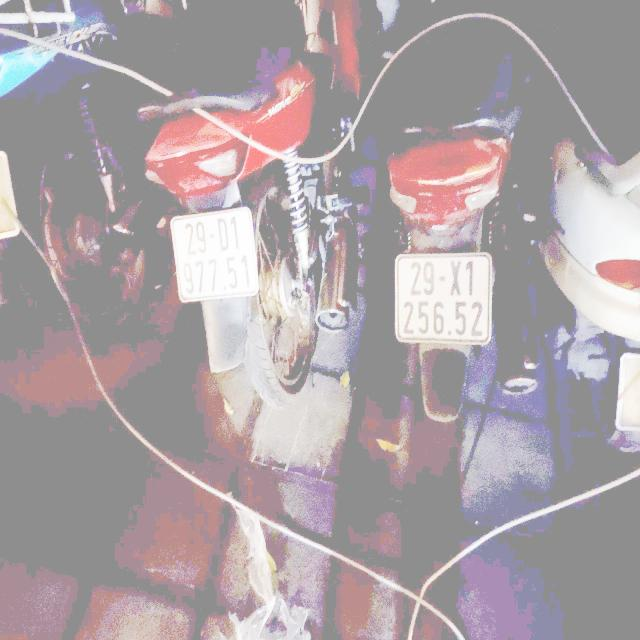license_plate: (392, 247, 497, 352), (168, 204, 265, 309)
